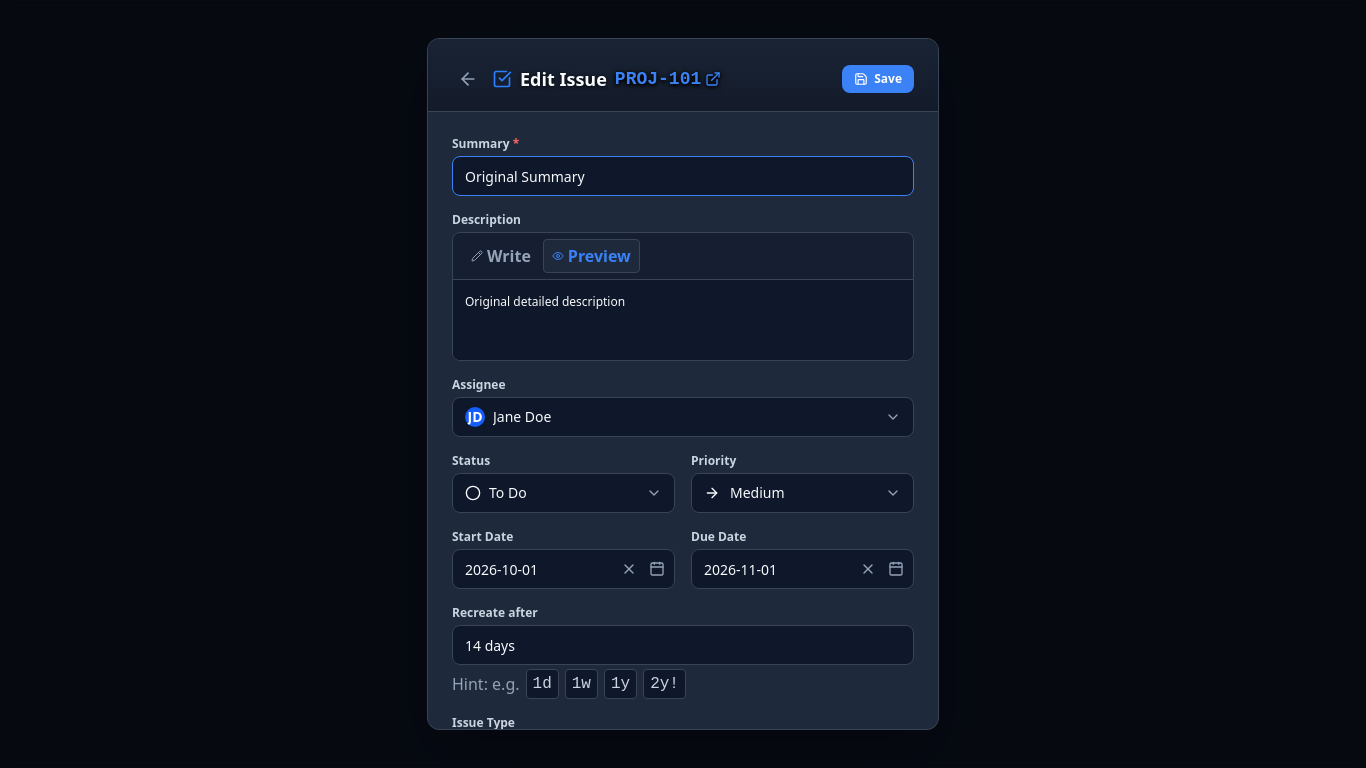
it: EditIssueModal component › allows clicking recreate after hint buttons to populate input
Click the button titled "Set recreate after to 2y!".
click(665, 684)  # box [643,669,686,699]
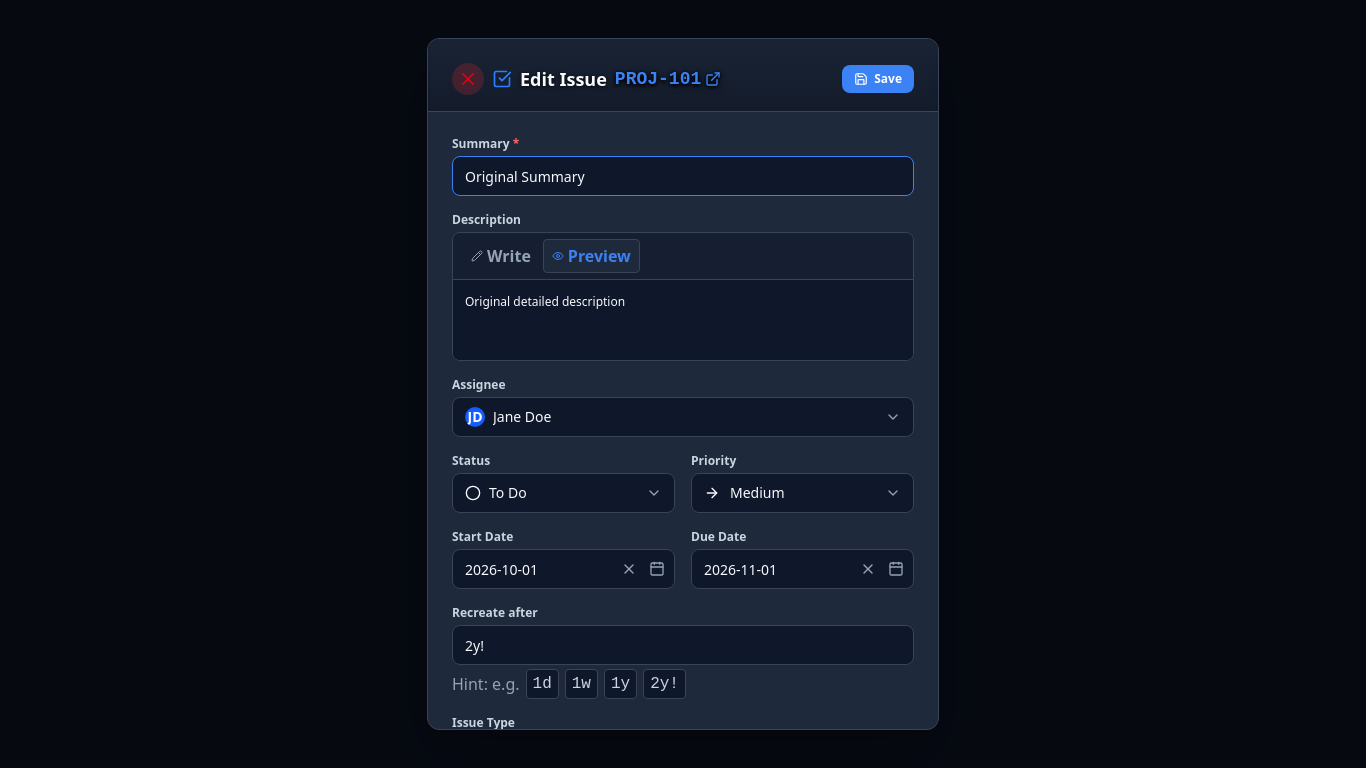
Check: the field with id "edit-recreate-after" holds "2y!", box [452,625,914,665]
